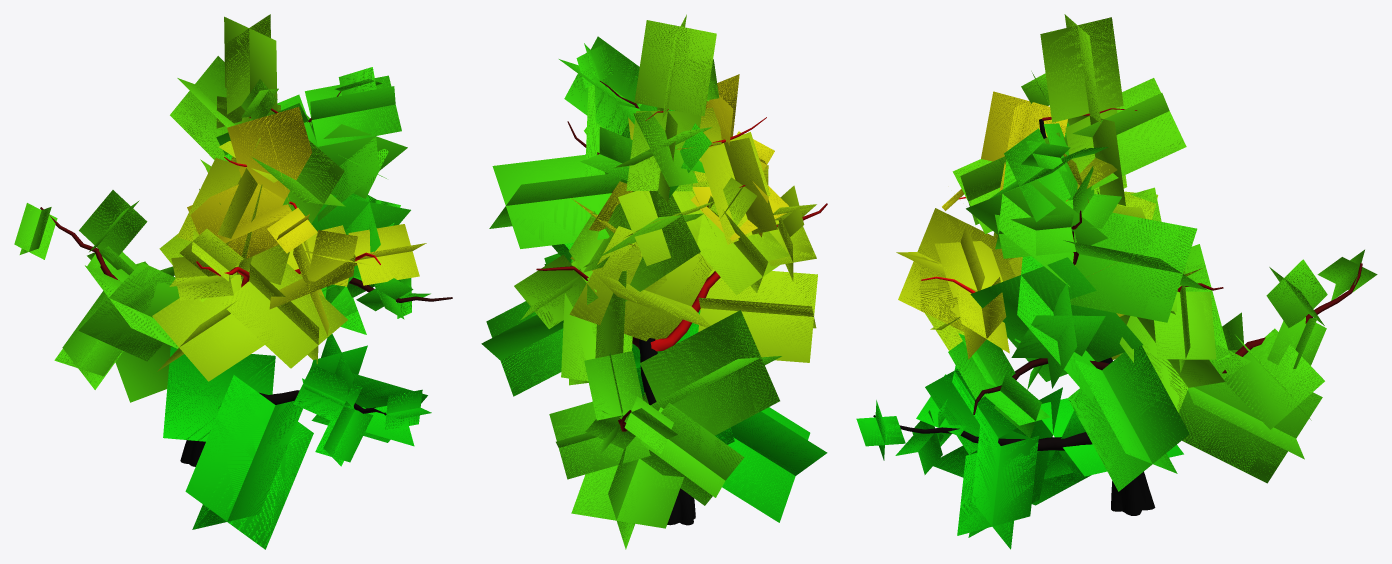
File: Type_1_Tree_5.fbx
3 views of the same model, side by side, from view 1: azimuth 30°, elevation 25°; view 2: azimuth 150°, elevation 25°; view 3: azimuth 270°, elevation 25° (orthographic). The views are drawn at different scales.
Parts seen in each view (by area): view 1: Leaf, Trunk; view 2: Leaf, Trunk; view 3: Leaf, Trunk.
Part boxes in pixels (x1,y1,x2,y2): Leaf: [14, 14, 431, 549]; Trunk: [40, 91, 452, 466]; Leaf: [481, 14, 827, 549]; Trunk: [536, 81, 827, 525]; Leaf: [856, 14, 1377, 549]; Trunk: [873, 108, 1362, 515].
Size of the model in its own units: 2159 by 3347 by 2958.
